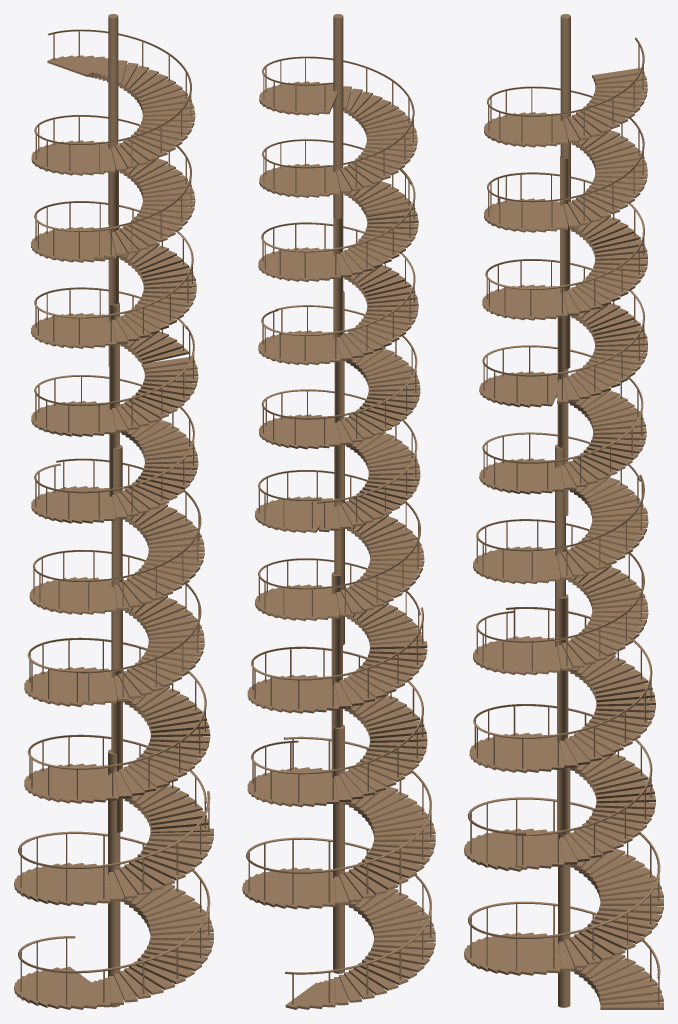
File: escalera.obj
The picture shows the model from 3 angles, left to right: view 1: azimuth 30°, elevation 25°; view 2: azimuth 150°, elevation 25°; view 3: azimuth 270°, elevation 25°; orthographic projection. The views are drawn at different scales.
Visible parts, largest first — view 1: barandilla002, pilar004, pilar002, barandilla003, barandilla004, pilar007, barandilla007, barandilla005, barandilla006, pilar005, pilar003, pilar006; view 2: pilar002, pilar007, barandilla002, barandilla003, barandilla005, barandilla004, barandilla006, barandilla007, pilar005, pilar003, pilar006, pilar004; view 3: pilar003, barandilla002, barandilla003, pilar002, barandilla004, pilar006, barandilla007, pilar007, barandilla005, barandilla006, pilar004, pilar005.
Boxes of the visible parts, left/top/right/bottom form: barandilla002: left=18, top=791, right=210, bottom=973; pilar004: left=111, top=445, right=122, bottom=669; pilar002: left=108, top=749, right=120, bottom=1007; barandilla003: left=27, top=637, right=206, bottom=803; barandilla004: left=33, top=458, right=201, bottom=673; pilar007: left=108, top=14, right=118, bottom=225; barandilla007: left=34, top=29, right=191, bottom=229; barandilla005: left=34, top=325, right=194, bottom=493; barandilla006: left=34, top=201, right=193, bottom=328; pilar005: left=109, top=302, right=119, bottom=496; pilar003: left=111, top=610, right=122, bottom=832; pilar006: left=108, top=169, right=118, bottom=367; pilar002: left=333, top=724, right=344, bottom=973; pilar007: left=333, top=14, right=343, bottom=218; barandilla002: left=246, top=736, right=431, bottom=974; barandilla003: left=251, top=607, right=423, bottom=774; barandilla005: left=261, top=305, right=417, bottom=503; barandilla004: left=258, top=470, right=420, bottom=615; barandilla006: left=261, top=169, right=415, bottom=335; barandilla007: left=262, top=56, right=414, bottom=184; pilar005: left=334, top=291, right=344, bottom=498; pilar003: left=331, top=572, right=342, bottom=777; pilar006: left=333, top=217, right=343, bottom=338; pilar004: left=334, top=445, right=344, bottom=645; pilar003: left=557, top=594, right=568, bottom=834; barandilla002: left=467, top=797, right=660, bottom=978; barandilla003: left=473, top=607, right=652, bottom=835; pilar002: left=558, top=767, right=570, bottom=1007; barandilla004: left=476, top=474, right=644, bottom=643; pilar006: left=560, top=156, right=570, bottom=368; barandilla007: left=487, top=37, right=644, bottom=202; pilar007: left=560, top=14, right=570, bottom=201; barandilla005: left=482, top=345, right=643, bottom=481; barandilla006: left=485, top=172, right=644, bottom=374; pilar004: left=555, top=444, right=565, bottom=646; pilar005: left=557, top=317, right=568, bottom=516.
Size of the model in its own units: 6.95 by 38 by 6.95.
